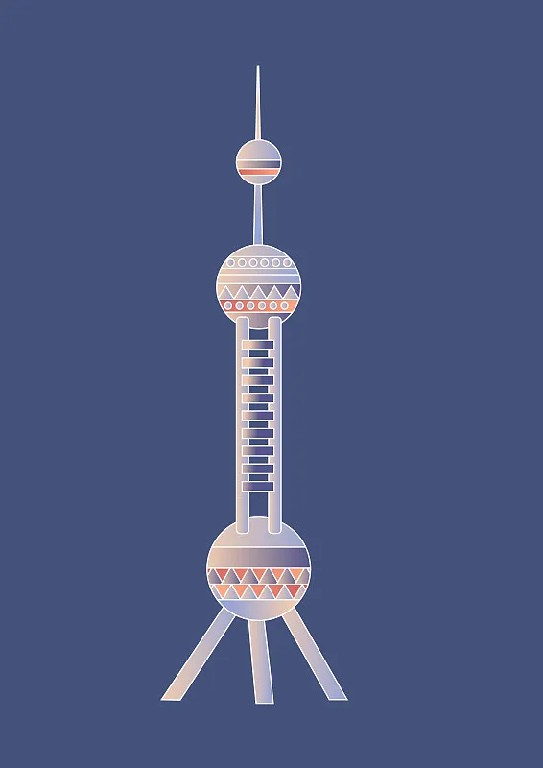Oriental: (163, 64, 348, 701)
